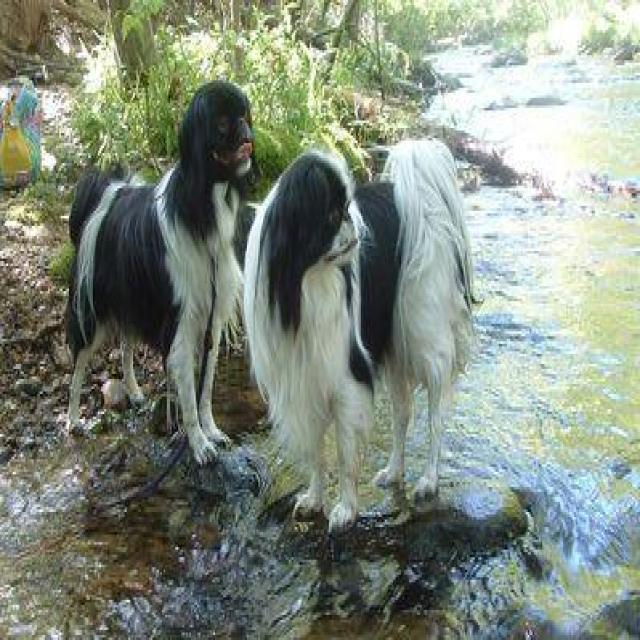husky: (245, 130, 486, 540), (62, 83, 254, 469)
